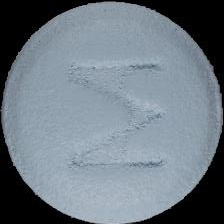51079-852: (0, 0, 224, 224)
